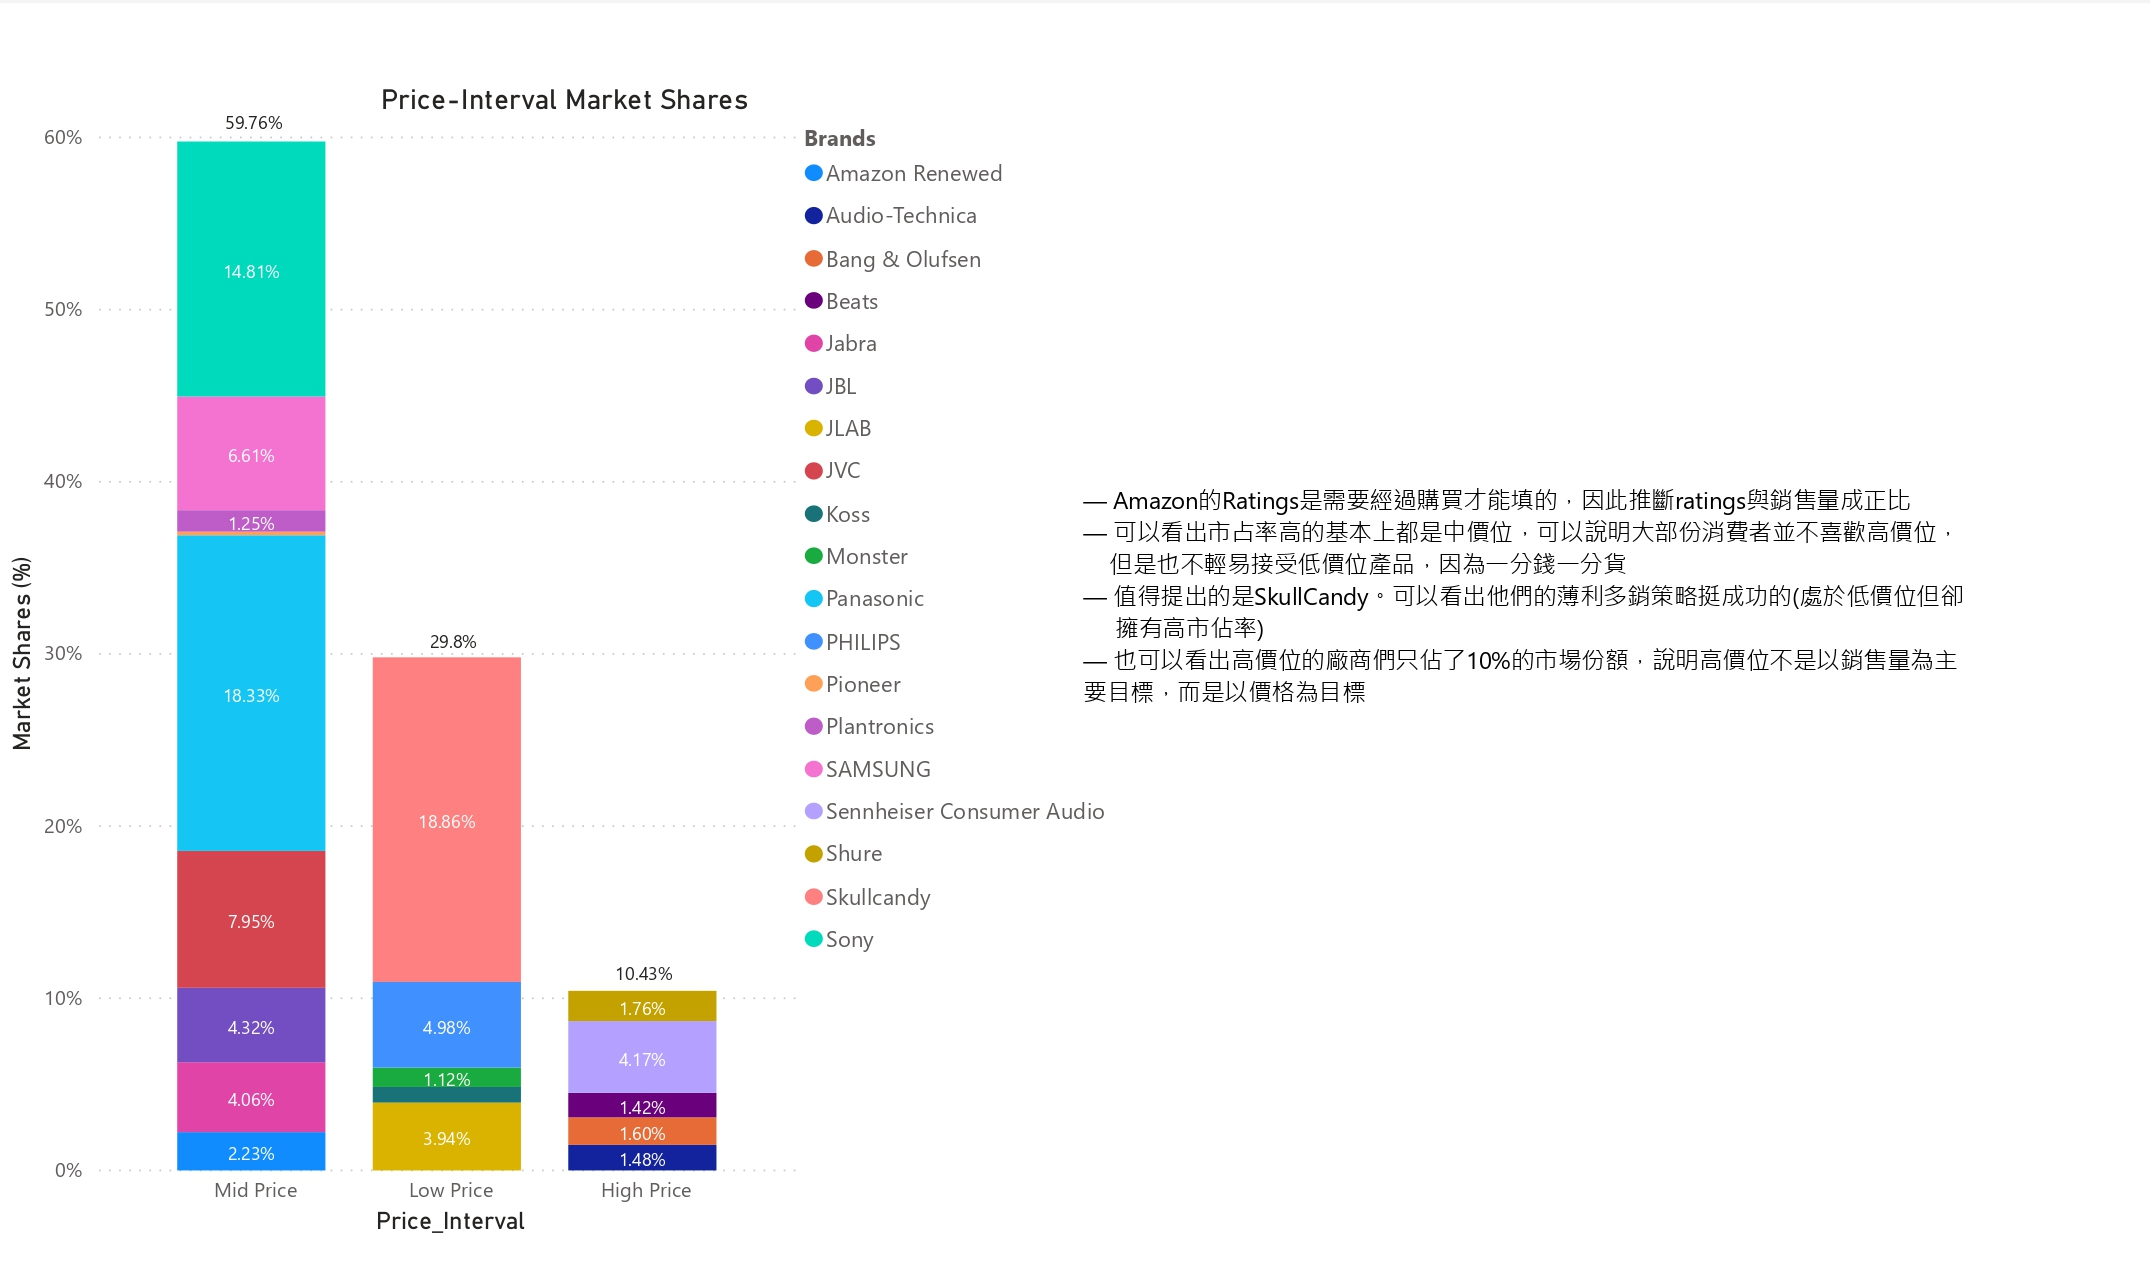

The dashboard page shown, as its layout file describes it:
{"tool":"powerbi","page":{"name":"Market Shares","canvas":[1280,720],"ordinal":3},"visuals":[{"type":"columnChart","title":"Price-Interval Market Shares","fields":{"Category":["Grouped.Price_Interval"],"Y":["Sum(Clean_Amazon_Earbuds (2).Ratings)"],"Series":["Clean_Amazon_Earbuds (2).Brands"]},"box":[0,28.4,672.4,690.8],"z":1001},{"type":"textbox","box":[89.3,37.5,123.5,33.4],"z":1002},{"type":"textbox","box":[347.1,544,72.6,27.5],"z":1004},{"type":"textbox","box":[241.1,346.2,57.6,27.5],"z":1005},{"type":"textbox","box":[639.9,262.8,544,216.1],"z":1006}]}

Visuals, with their boxes on the page's 1280x720 design canvas (x1, y1, x2, y2). These are canvas units, not pixel positions in the 2150x1275 screenshot, which may show the page scaled, cropped or inside an application window:
"Price-Interval Market Shares" columnChart: 0:28:672:719
textbox: 89:38:213:71
textbox: 347:544:420:572
textbox: 241:346:299:374
textbox: 640:263:1184:479
